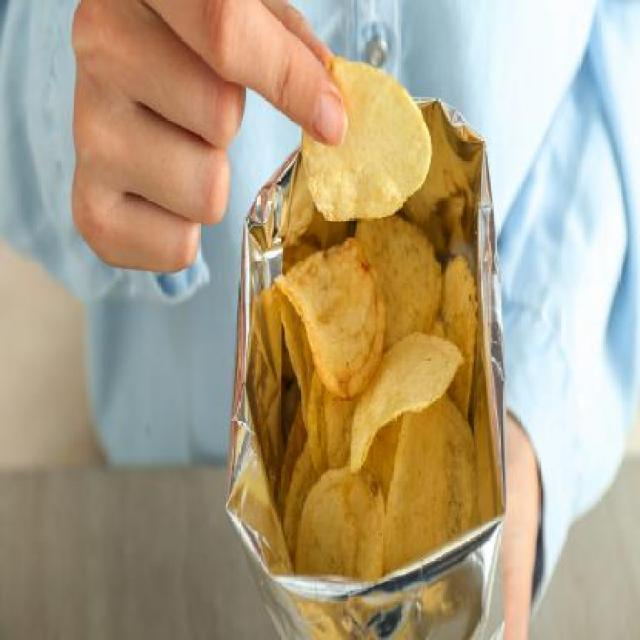Chips packaged: (274, 225, 493, 567), (297, 36, 443, 235)
